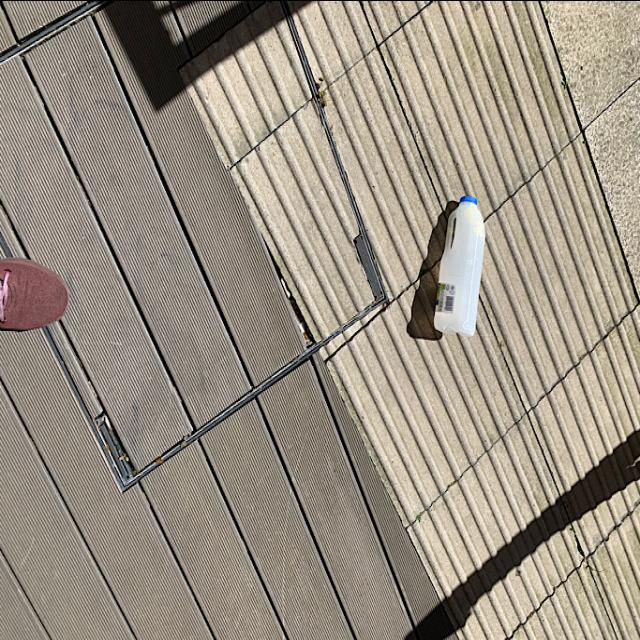litter: (433, 182, 492, 330)
